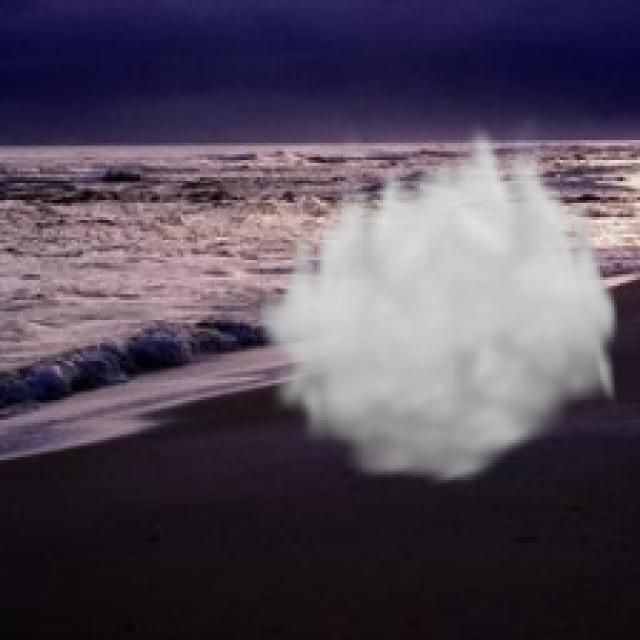Smoke: (251, 114, 623, 492)
